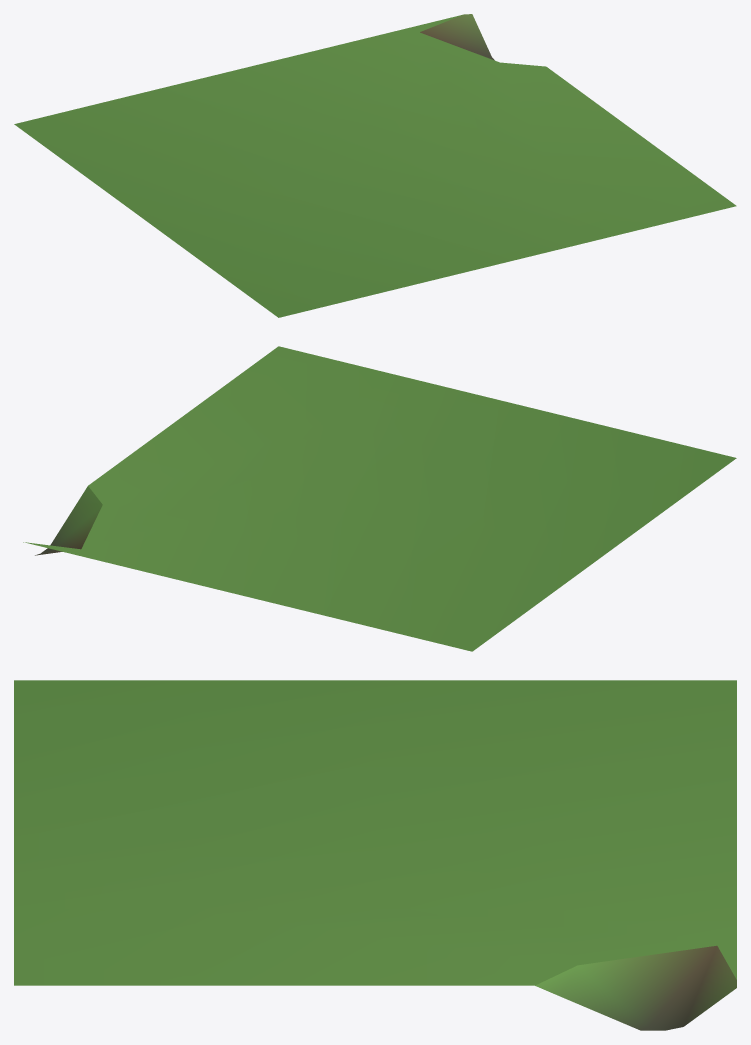
The model's file is terrain_0_8_4.glb.
3 renders of one model, top to bottom at view 1: azimuth 30°, elevation 25°; view 2: azimuth 150°, elevation 25°; view 3: azimuth 270°, elevation 25°, orthographic. The views are drawn at different scales.
Parts seen in each view (by area): view 1: m; view 2: m; view 3: m.
Part boxes in pixels (x1,y1,x2,y2): m: (14, 14, 736, 317); m: (23, 346, 736, 651); m: (14, 680, 736, 1030).
Size of the model in its own units: 8 by 0.55 by 8.
